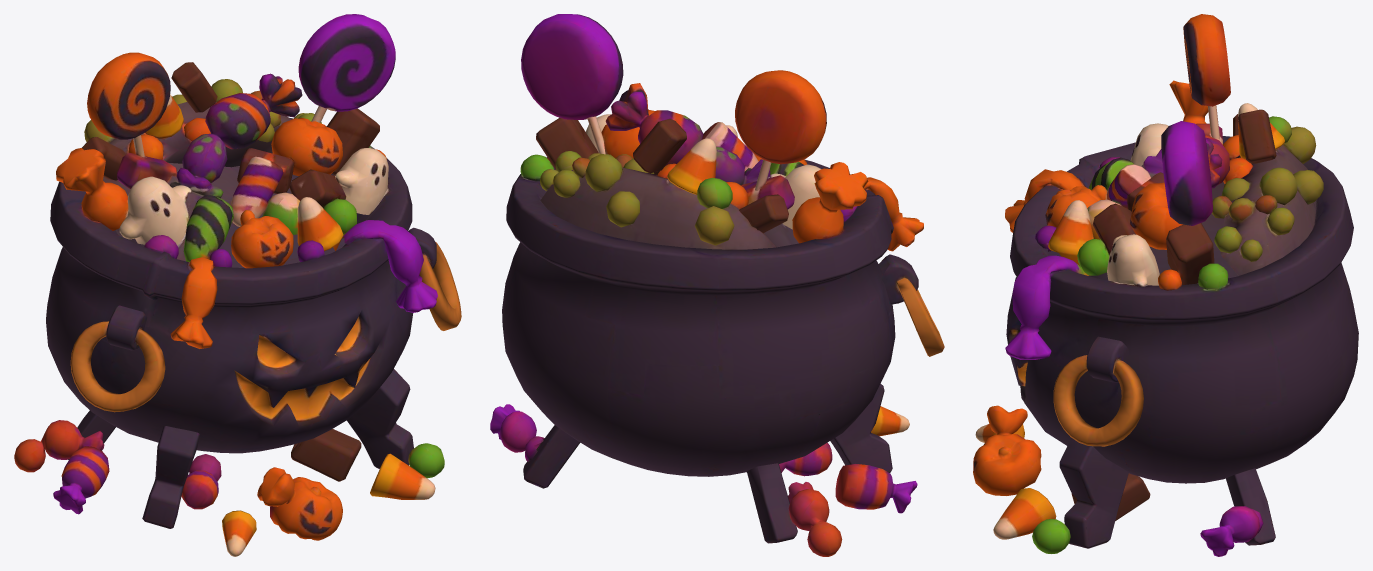
Rendered from candy-cauldron.glb.
The picture shows the model from 3 angles, left to right: view 1: azimuth 30°, elevation 25°; view 2: azimuth 150°, elevation 25°; view 3: azimuth 270°, elevation 25°; orthographic projection. The views are drawn at different scales.
Visible parts, largest first — view 1: tripo_node_5fd54f20-4525-4136-b073-1974e43d0d98; view 2: tripo_node_5fd54f20-4525-4136-b073-1974e43d0d98; view 3: tripo_node_5fd54f20-4525-4136-b073-1974e43d0d98.
Boxes of the visible parts, x1,y1,x2,y2 form: tripo_node_5fd54f20-4525-4136-b073-1974e43d0d98: (14,14,461,556); tripo_node_5fd54f20-4525-4136-b073-1974e43d0d98: (490,14,944,556); tripo_node_5fd54f20-4525-4136-b073-1974e43d0d98: (973,14,1358,556).
Size of the model in its own units: 0.9458 by 0.9995 by 0.8081.
Materials: 1 (1 with a texture image).
